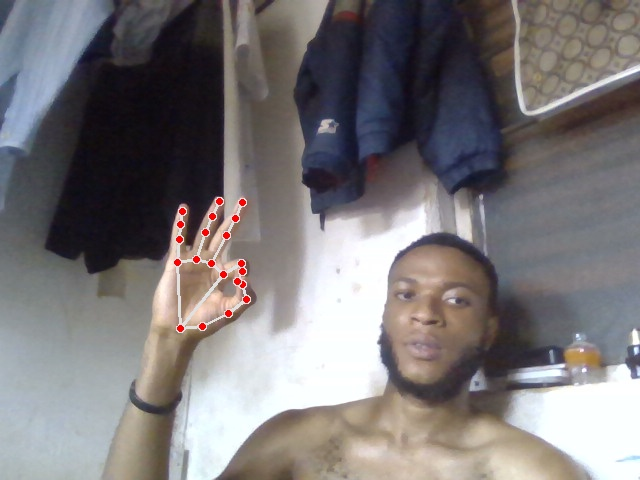okay: (151, 193, 257, 345)
